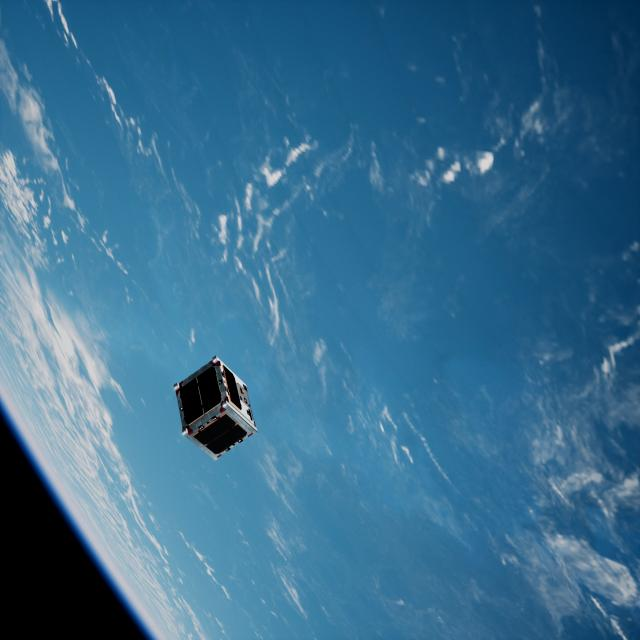medium_debris: (167, 355, 257, 461)
